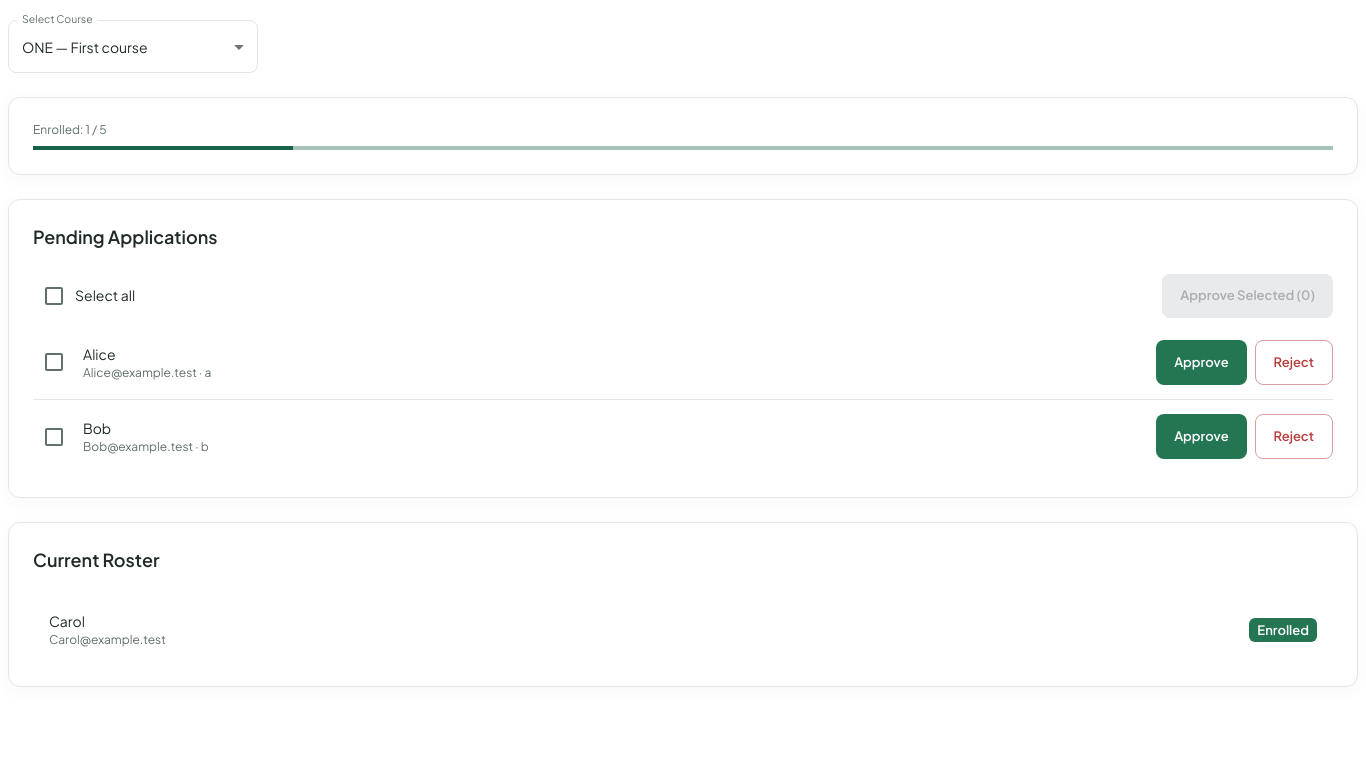
it: individual rejection removes that student from the bulk selection
Check: the checkbox named "Select Alice" is shown, box [42,350,66,374]
Click the 1st checkbox labelled "Select all". click: (89, 296)
box: [42,284,135,308]
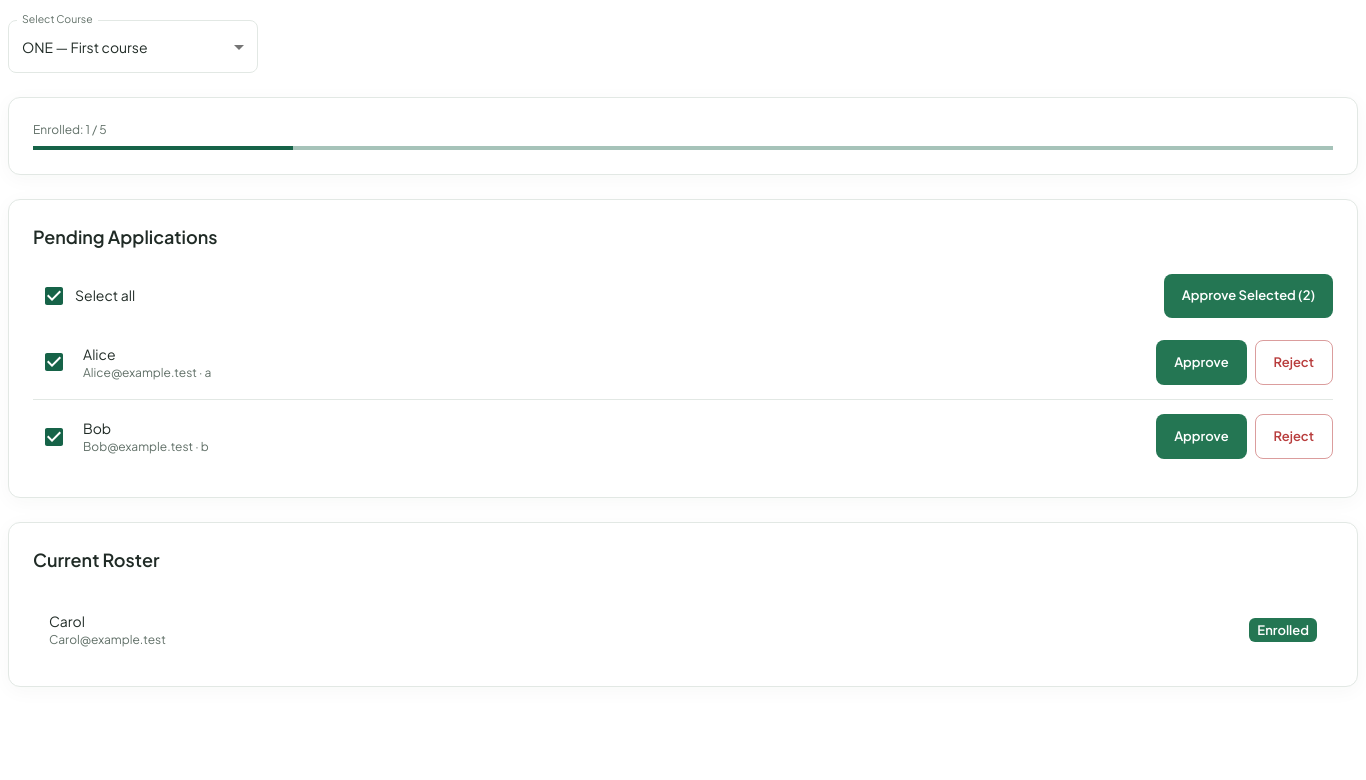
Click the button "Reject" in the row of "Alice@example.test · a". click: (1294, 362)
box: [1255,340,1333,385]
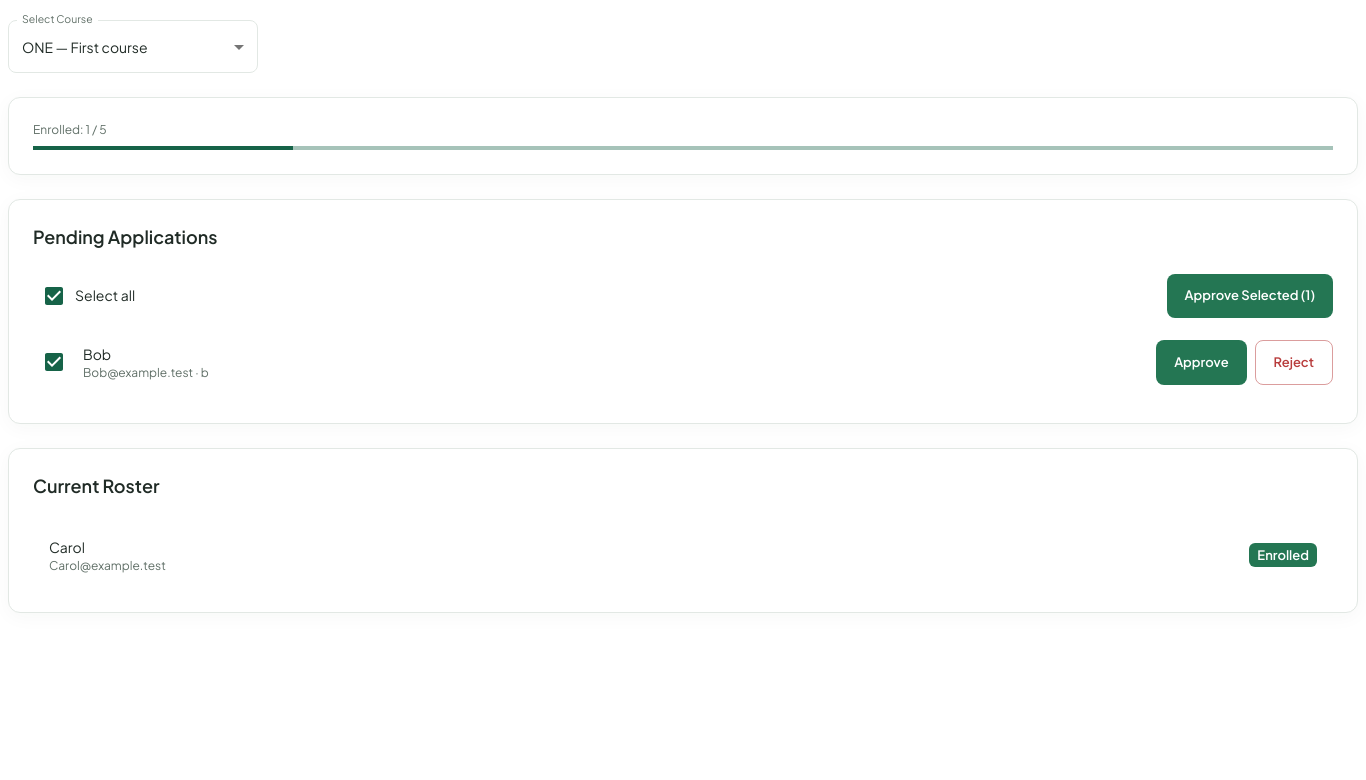
Check: the checkbox named "Select Bob" is checked, box [42,350,66,374]
Check: the button "Approve Selected (1)" is shown, box [1166,274,1333,318]
